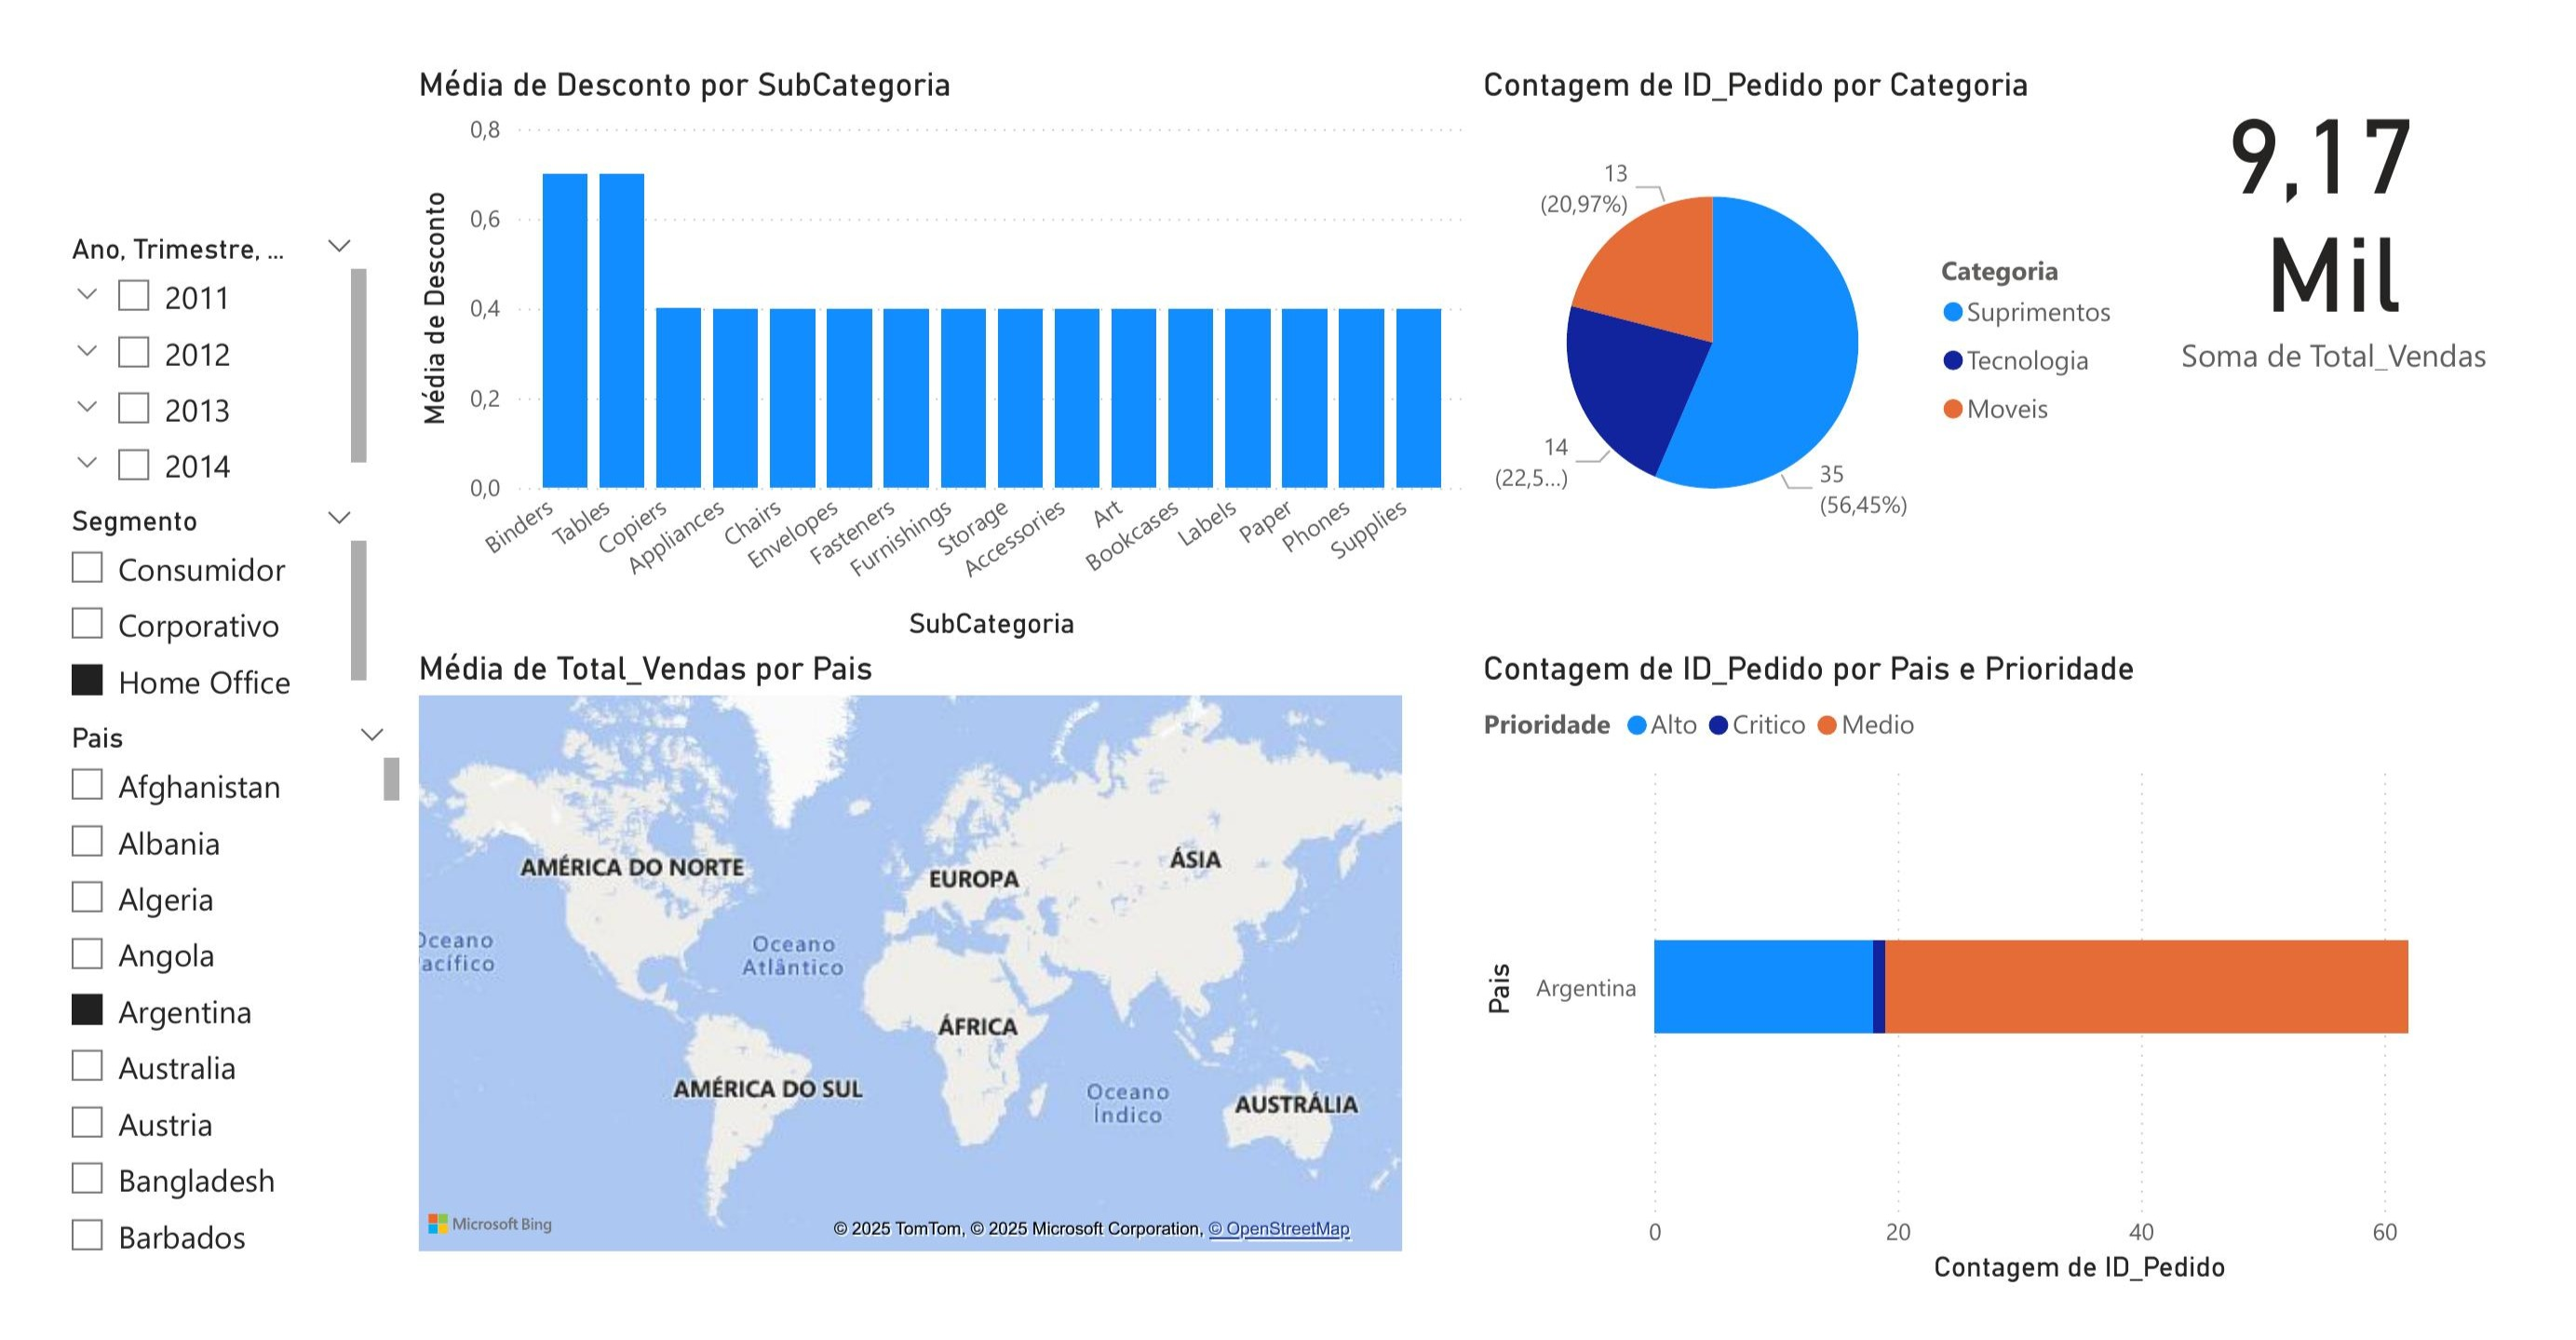

Layout of this report page (visuals, bound fields, positions):
{"tool":"powerbi","page":{"name":"Página 1","canvas":[1280,720],"ordinal":0},"visuals":[{"type":"card","title":"Total de Vendas Global","fields":{"Values":["Sum(Vendas.Total_Vendas)"]},"box":[1065.1,140.4,213.6,195.7],"z":0},{"type":"pieChart","title":"Total de Vendas por Categoria","fields":{"Category":["Vendas.Categoria"],"Y":["CountNonNull(Vendas.ID_Pedido)"]},"box":[697.6,86.6,367.5,259.9],"z":1000},{"type":"barChart","title":"Total de Vendas por Pais e Prioridade","fields":{"Category":["Vendas.Pais"],"Y":["CountNonNull(Vendas.ID_Pedido)"],"Series":["Vendas.Prioridade"]},"box":[720,360,560.2,360],"z":2000},{"type":"columnChart","fields":{"Category":["Vendas.SubCategoria"],"Y":["Avg(Vendas.Desconto)"]},"box":[170.3,113.5,527.3,274.9],"z":3000},{"type":"map","title":"Média de Vendas por Pais","fields":{"Category":["Vendas.Pais"],"Size":["Avg(Vendas.Total_Vendas)"]},"box":[186.7,388.4,533.3,331.6],"z":4000},{"type":"slicer","fields":{"Values":["Vendas.Pais"]},"box":[0,428.7,186.7,291.3],"z":5000},{"type":"actionButton","box":[0,0,100,40],"z":6000},{"type":"slicer","fields":{"Values":["Vendas.Segmento"]},"box":[0,276.3,170.3,112],"z":7000},{"type":"slicer","fields":{"Values":["Vendas.Data_Pedido.Variation.Hierarquia de datas.Ano","Vendas.Data_Pedido.Variation.Hierarquia de datas.Trimestre","Vendas.Data_Pedido.Variation.Hierarquia de datas.Mês","Vendas.Data_Pedido.Variation.Hierarquia de datas.Dia"]},"box":[0,98.6,170.3,140.4],"z":8000},{"type":"textbox","box":[85.1,0,971,86.6],"z":8001},{"type":"textbox","box":[1056.1,0,224.1,113.5],"z":8002}]}

Visuals, with their boxes on the page's 1280x720 design canvas (x1, y1, x2, y2). These are canvas units, not pixel positions in the 2576x1340 screenshot, which may show the page scaled, cropped or inside an application window:
"Total de Vendas Global" card: 1065,140,1279,336
"Total de Vendas por Categoria" pieChart: 698,87,1065,346
"Total de Vendas por Pais e Prioridade" barChart: 720,360,1280,720
columnChart - Vendas.SubCategoria x Avg(Vendas.Desconto): 170,114,698,388
"Média de Vendas por Pais" map: 187,388,720,720
slicer - Vendas.Pais: 0,429,187,720
actionButton: 0,0,100,40
slicer - Vendas.Segmento: 0,276,170,388
slicer - Vendas.Data_Pedido.Variation.Hierarquia de datas.Ano x Vendas.Data_Pedido.Variation.Hierarquia de datas.Trimestre: 0,99,170,239
textbox: 85,0,1056,87
textbox: 1056,0,1280,114
